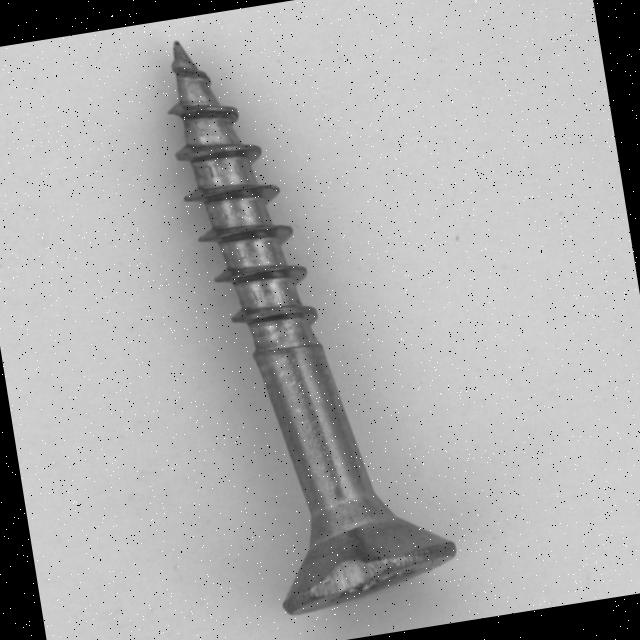scratch_head: (300, 543, 392, 608)
